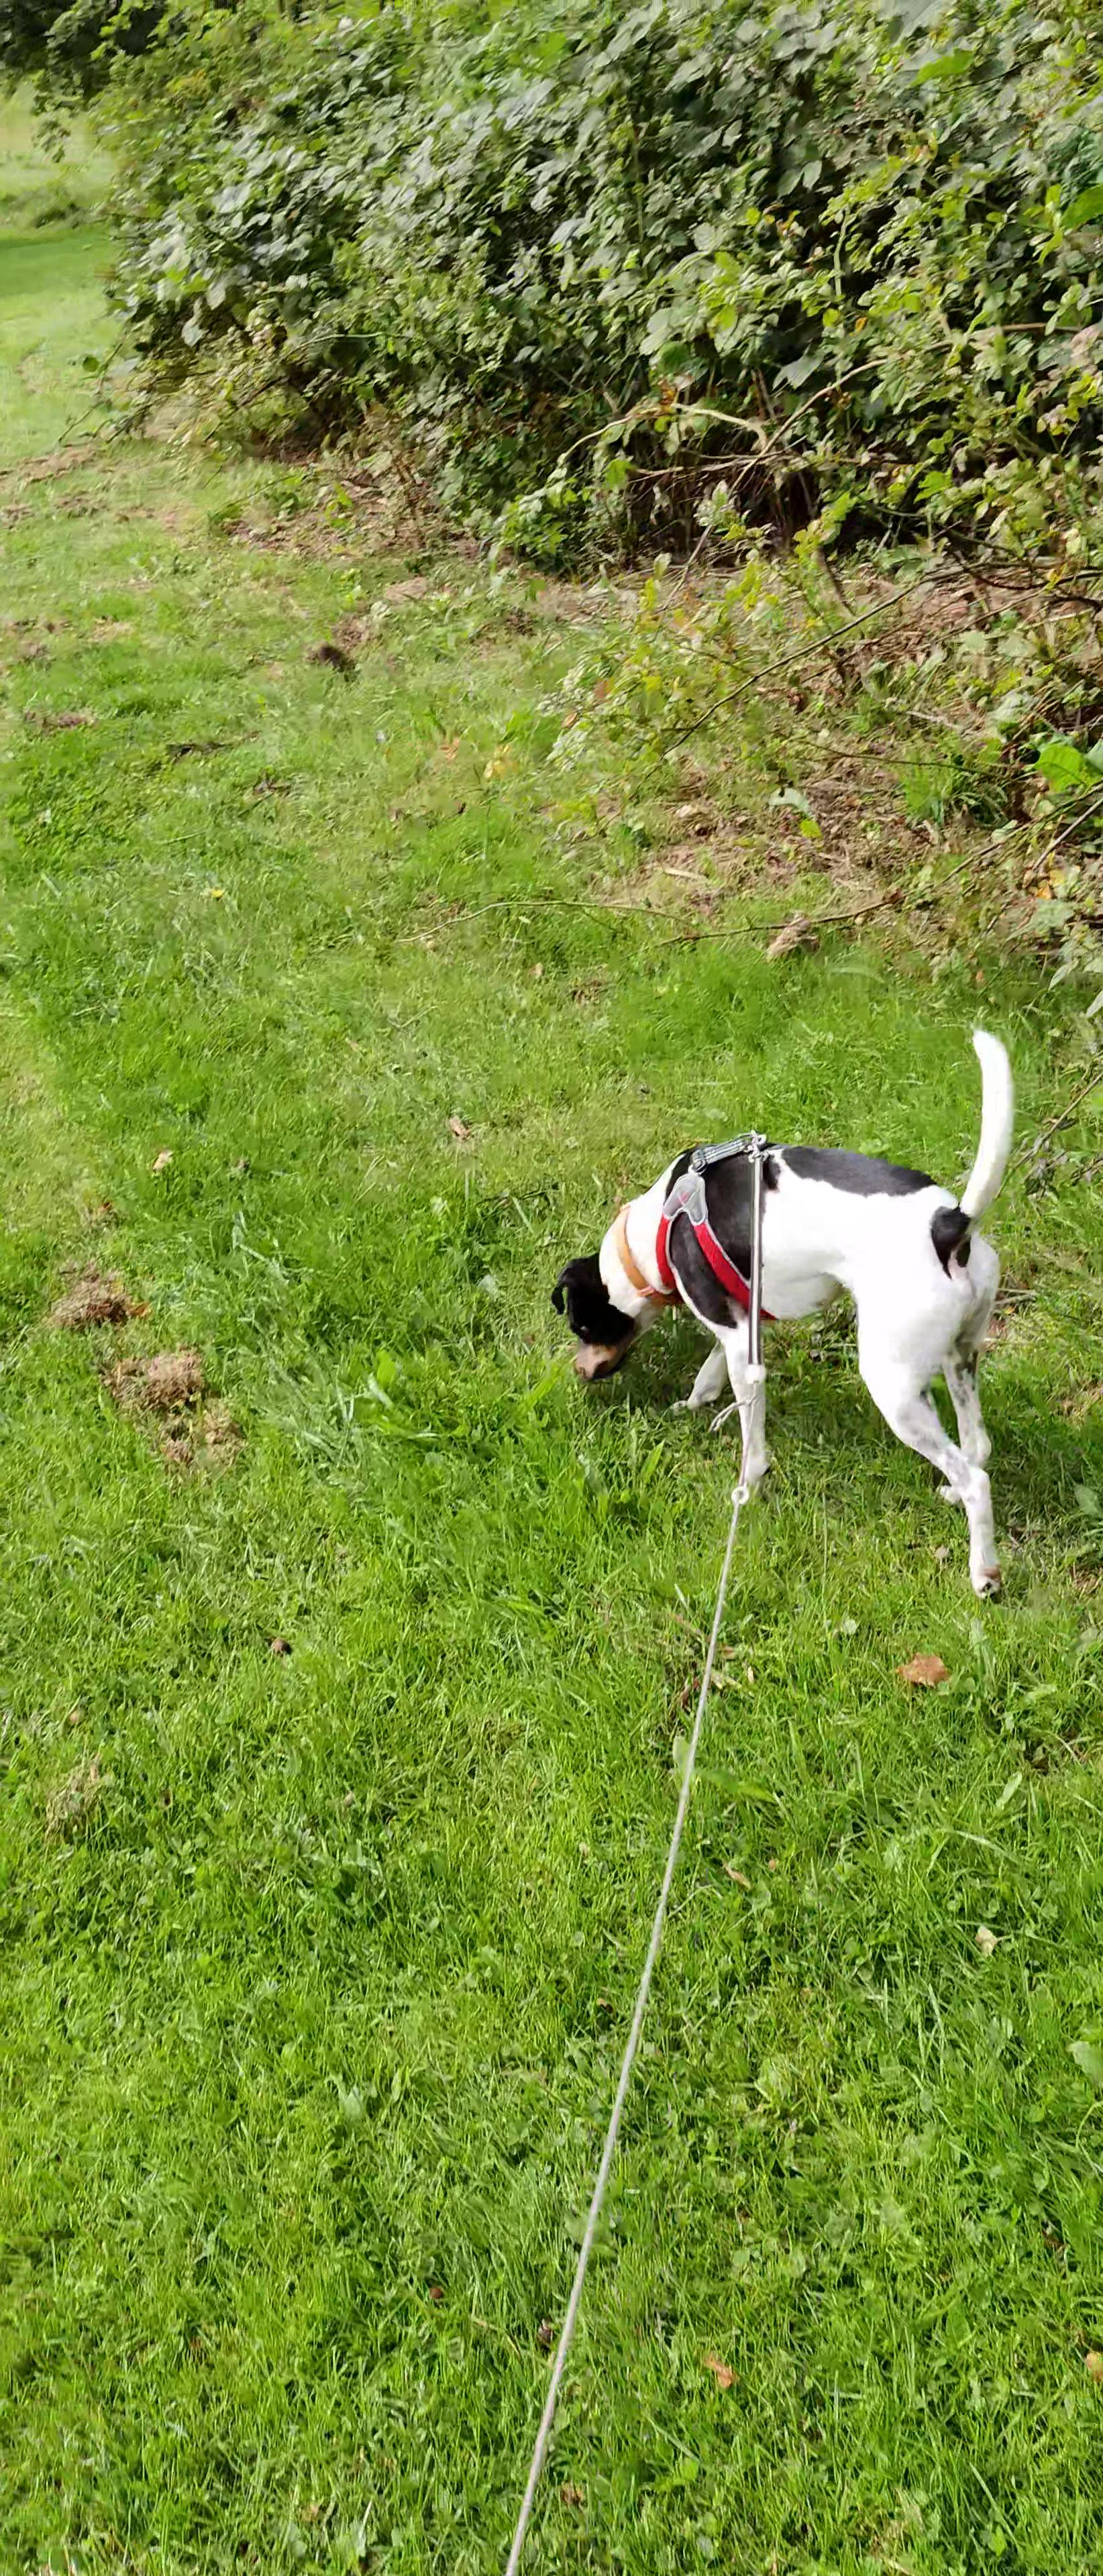Dog: (533, 1009, 1049, 1613)
